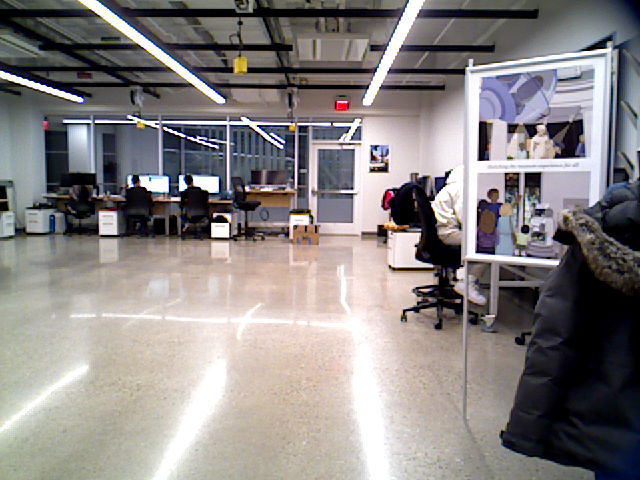painting3: (368, 144, 391, 173)
